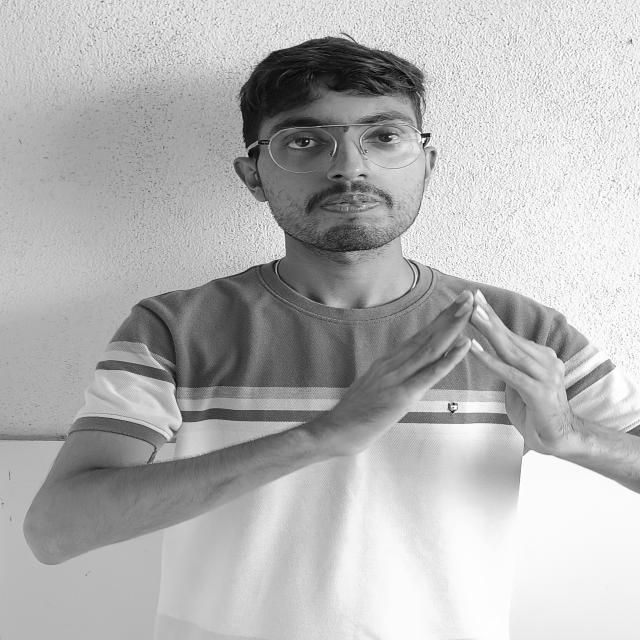Home: (284, 271, 612, 478)
